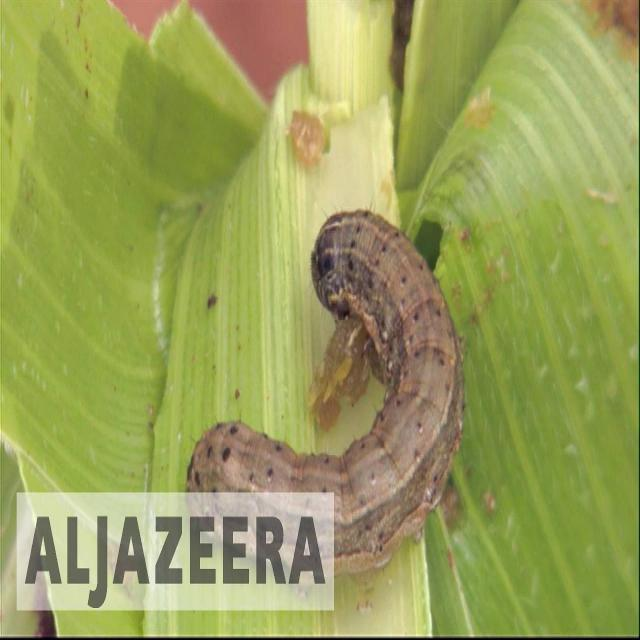Plaga: (185, 202, 473, 579)
